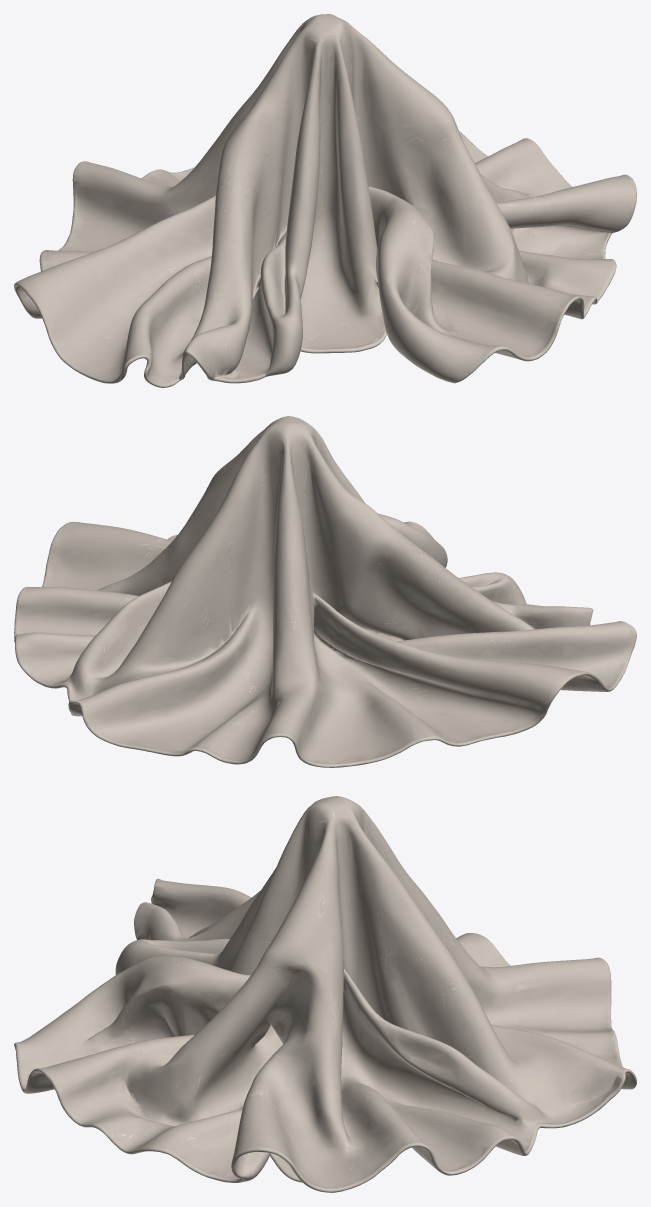
File: fabric.glb
The picture shows the model from 3 angles, top to bottom: view 1: azimuth 30°, elevation 25°; view 2: azimuth 150°, elevation 25°; view 3: azimuth 270°, elevation 25°; orthographic projection. The views are drawn at different scales.
Visible parts, largest first — view 1: tripo_node_b64b6a2e-a1ea-4ee8-86f6-b99f12f3aebb; view 2: tripo_node_b64b6a2e-a1ea-4ee8-86f6-b99f12f3aebb; view 3: tripo_node_b64b6a2e-a1ea-4ee8-86f6-b99f12f3aebb.
Part boxes in pixels (bbox=[...]): tripo_node_b64b6a2e-a1ea-4ee8-86f6-b99f12f3aebb: bbox=[14, 14, 636, 387]; tripo_node_b64b6a2e-a1ea-4ee8-86f6-b99f12f3aebb: bbox=[14, 416, 636, 767]; tripo_node_b64b6a2e-a1ea-4ee8-86f6-b99f12f3aebb: bbox=[14, 796, 636, 1192].
Size of the model in its own units: 1.07 by 0.4561 by 0.9536.
1 material, 1 textured.
